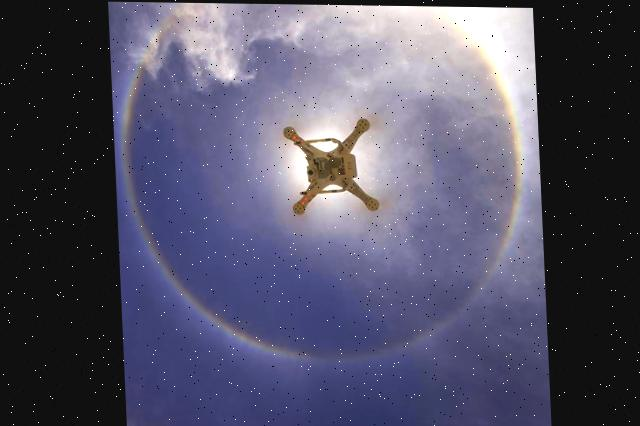drone: (278, 117, 381, 216)
